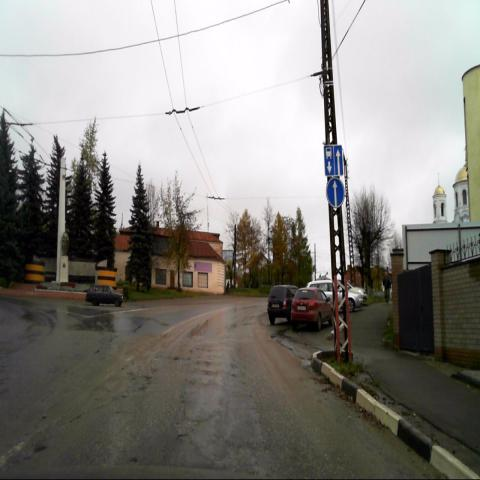5_11: (323, 144, 343, 177)
